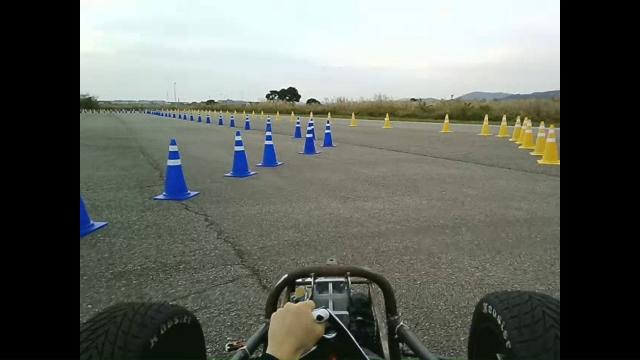blue cone: (153, 138, 200, 200), (222, 128, 259, 179), (258, 118, 286, 171)
yellow cone: (477, 114, 492, 136), (496, 114, 510, 137), (439, 113, 453, 133), (381, 112, 392, 129), (348, 112, 358, 126), (326, 111, 333, 124), (274, 109, 281, 120), (289, 110, 295, 122), (250, 109, 256, 119), (260, 109, 264, 119)
